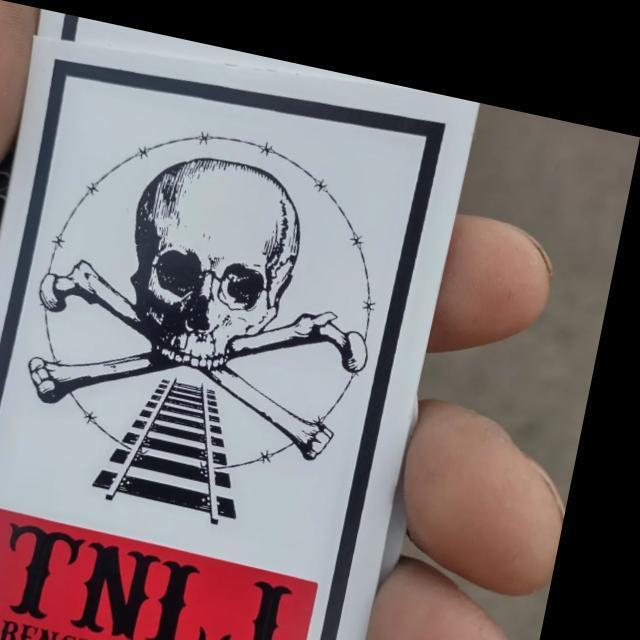-: (0, 62, 425, 557)
